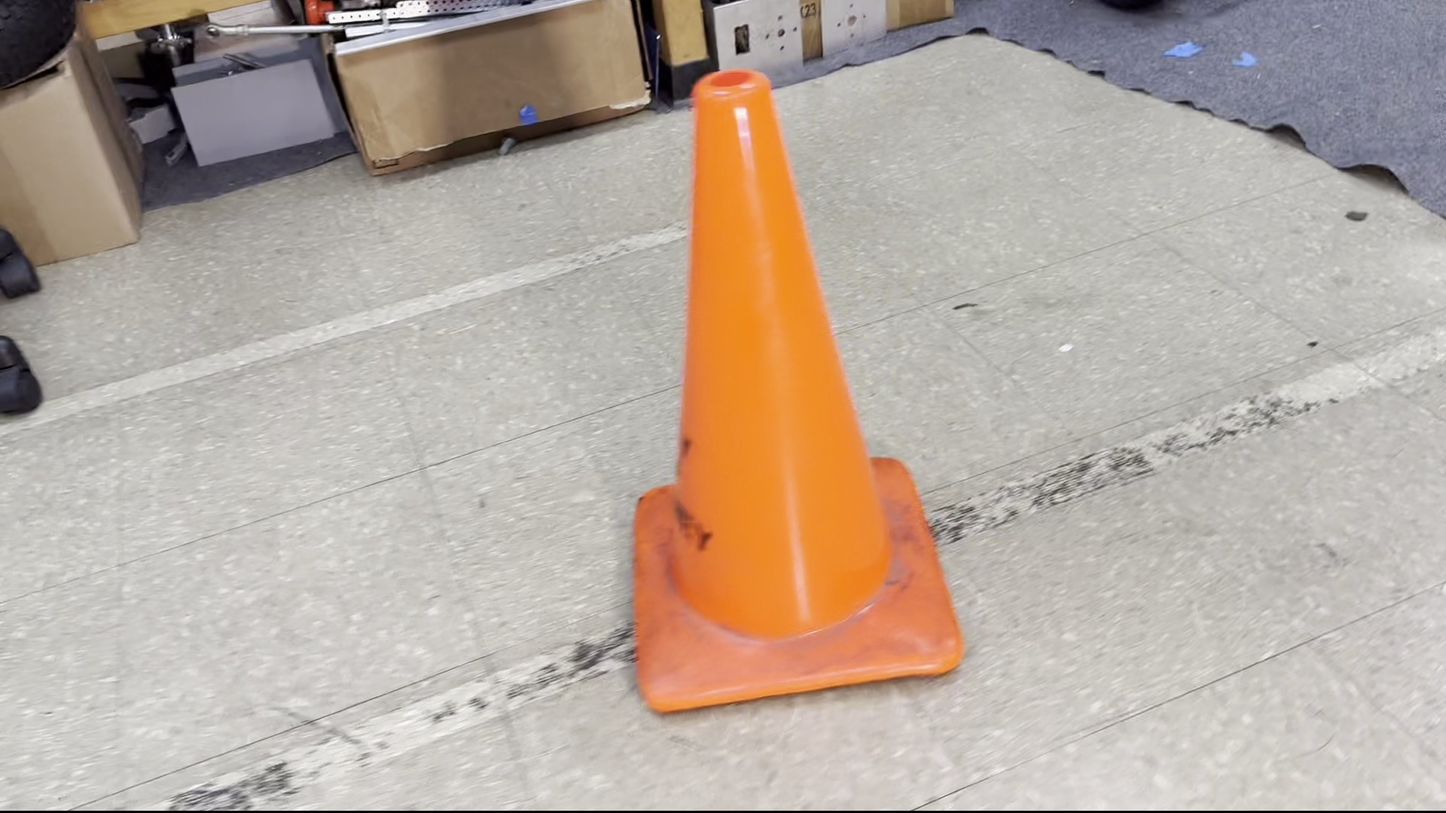traffic_cone: (631, 67, 964, 715)
